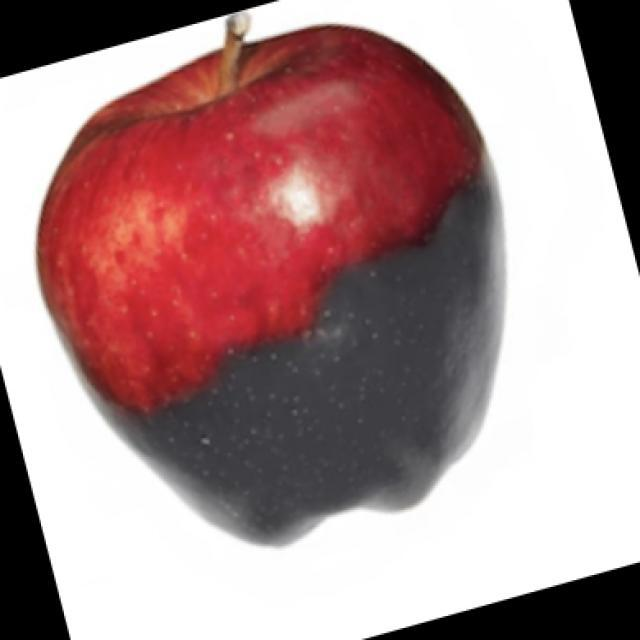Rotten: (35, 35, 495, 530)
